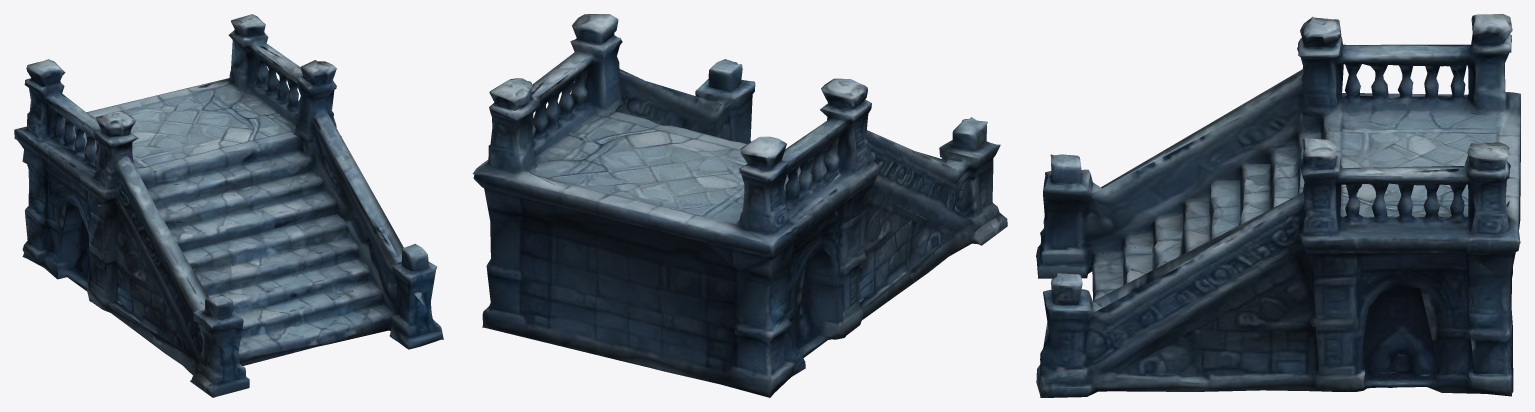
File: hstairs.glb
3 views of the same model, side by side, from view 1: azimuth 30°, elevation 25°; view 2: azimuth 150°, elevation 25°; view 3: azimuth 270°, elevation 25° (orthographic). The views are drawn at different scales.
Visible parts, largest first — view 1: tripo_node_320d2a95; view 2: tripo_node_320d2a95; view 3: tripo_node_320d2a95.
Part boxes in pixels (left/top/right/bottom): tripo_node_320d2a95: left=14, top=14, right=443, bottom=397; tripo_node_320d2a95: left=473, top=14, right=1007, bottom=397; tripo_node_320d2a95: left=1036, top=14, right=1520, bottom=397.
Bounding box in the file's own units: 71.93 × 56.31 × 99.94.
Materials: 1 (1 with a texture image).
